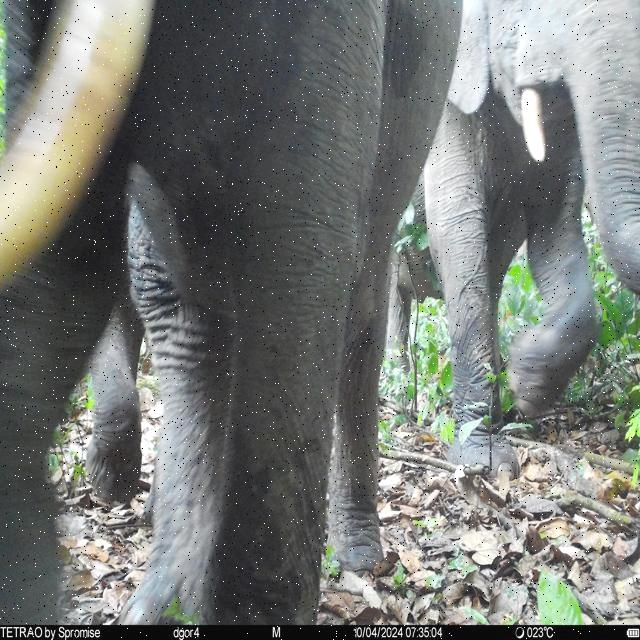elephant: (1, 0, 461, 622), (386, 1, 640, 487)
tusk: (0, 0, 156, 295)
